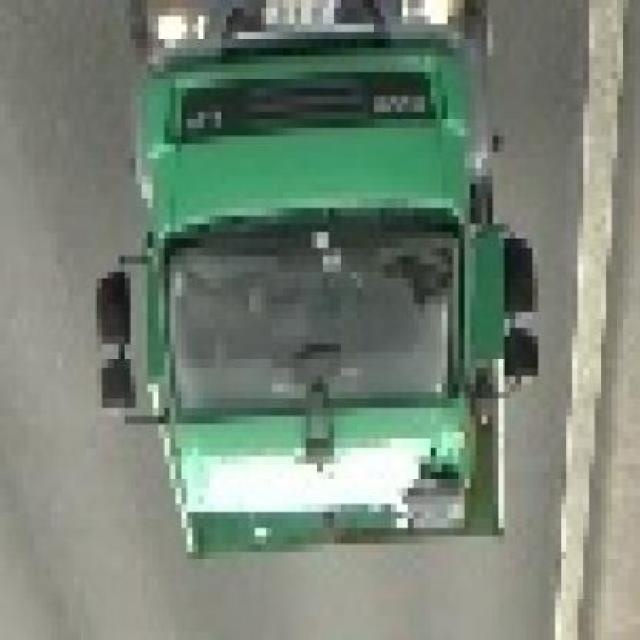truck: (92, 9, 539, 569)
